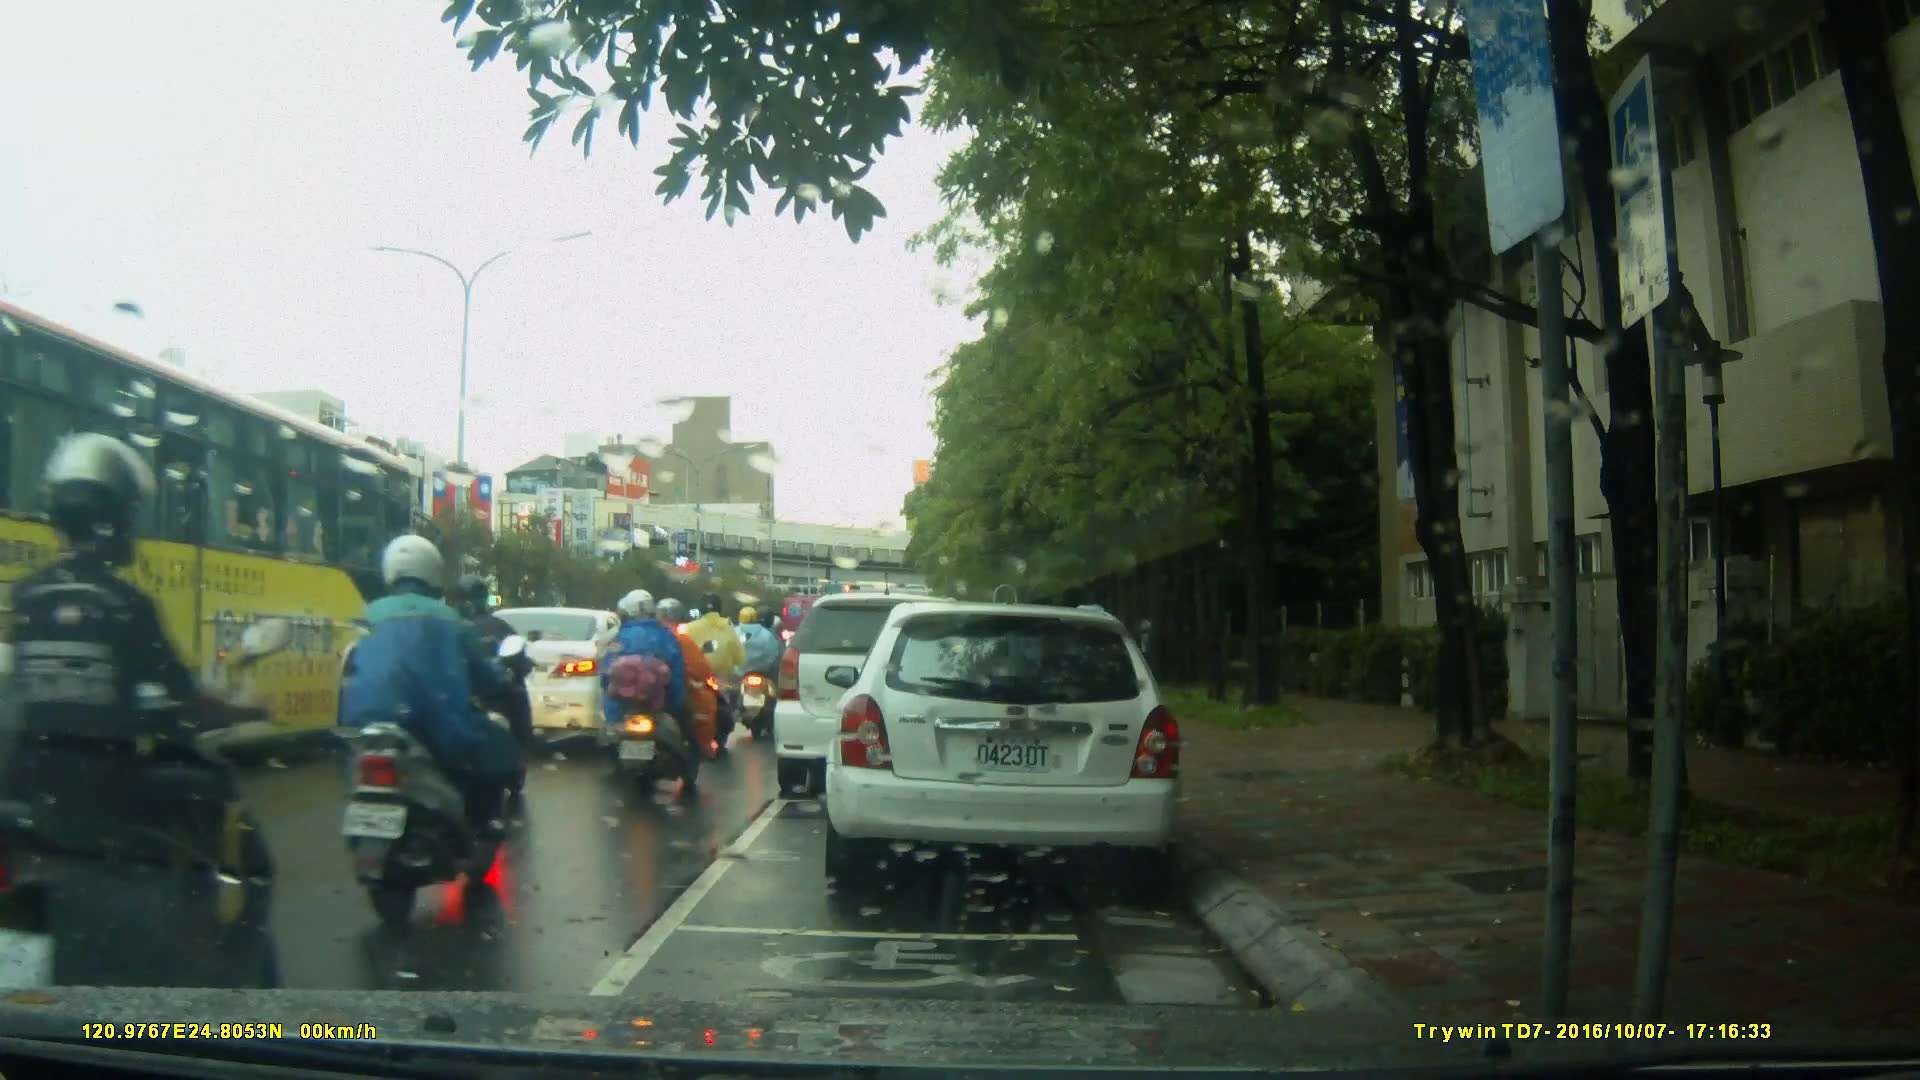rider: (4, 430, 290, 1038), (335, 519, 511, 924), (410, 570, 541, 817), (599, 587, 714, 807), (683, 592, 748, 760), (725, 605, 781, 740)
vehicle: (1, 296, 425, 793), (835, 594, 1194, 898), (776, 590, 1026, 784), (460, 605, 664, 748)
